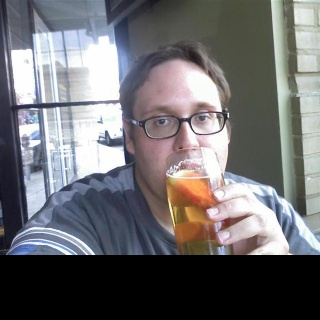without_mask: (122, 57, 231, 202)
